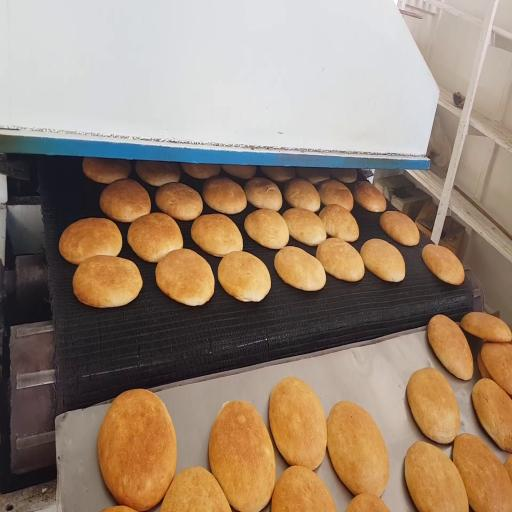bread: (98, 390, 176, 511), (209, 401, 275, 511), (328, 402, 389, 496), (269, 377, 326, 470), (453, 434, 511, 511), (405, 442, 468, 511), (407, 368, 460, 443), (73, 256, 142, 307), (156, 249, 214, 305), (161, 467, 231, 511), (428, 315, 473, 380), (59, 218, 122, 264), (272, 466, 336, 511), (472, 379, 511, 451), (128, 213, 182, 262), (218, 251, 270, 301), (275, 247, 326, 291), (100, 179, 151, 222), (191, 214, 242, 256), (316, 238, 364, 282), (361, 239, 405, 282), (244, 209, 289, 249), (422, 244, 464, 285), (156, 183, 202, 220), (283, 208, 326, 246), (203, 177, 246, 214), (481, 342, 511, 394), (461, 312, 511, 342), (319, 204, 359, 241), (380, 211, 419, 246), (83, 157, 131, 184), (244, 177, 282, 211), (284, 178, 320, 211), (136, 161, 180, 186), (318, 180, 353, 211), (354, 181, 386, 212), (346, 494, 389, 511), (181, 163, 220, 179), (261, 166, 295, 182), (297, 167, 329, 184), (222, 165, 256, 179), (330, 168, 357, 184), (477, 352, 492, 379), (504, 455, 511, 480), (102, 506, 135, 511)
